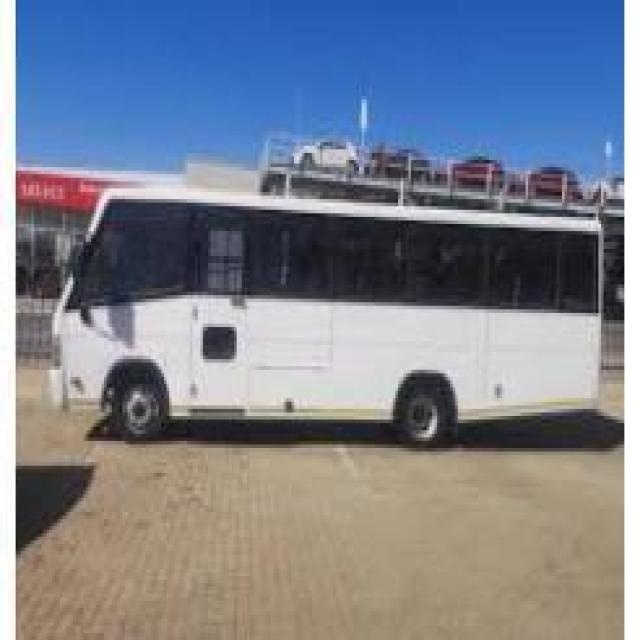Bus: (54, 163, 604, 441)
